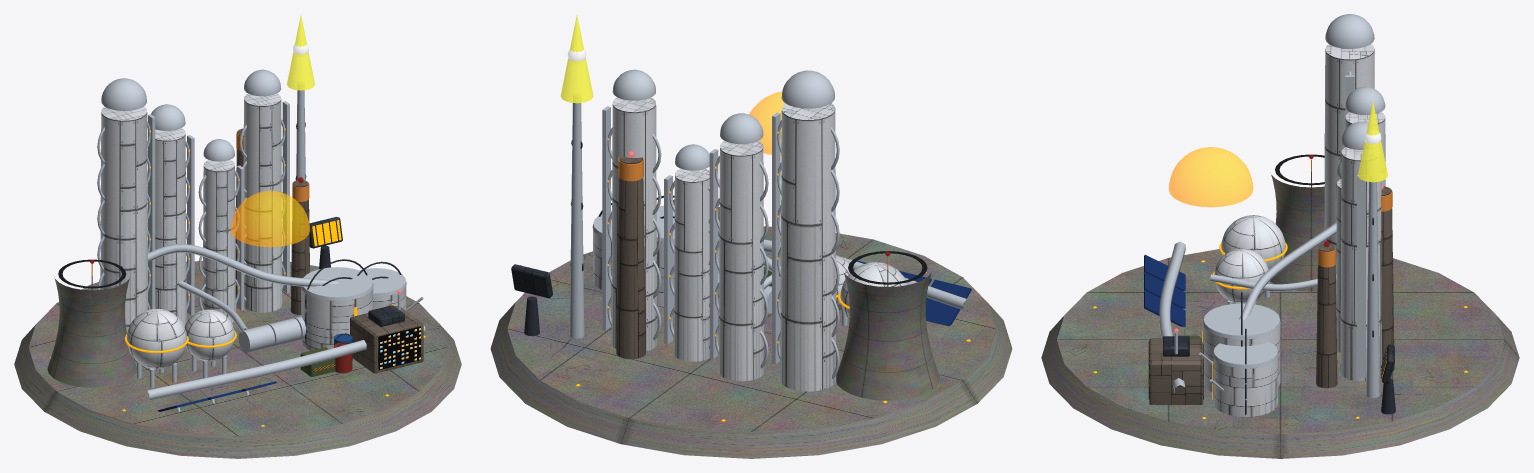
The model's file is refinery-T5.glb.
The picture shows the model from 3 angles, left to right: view 1: azimuth 30°, elevation 25°; view 2: azimuth 150°, elevation 25°; view 3: azimuth 270°, elevation 25°; orthographic projection. The views are drawn at different scales.
Visible parts, largest first — view 1: object 1, object 12, object 51, object 112, object 27, object 40, object 118, object 73, object 89, object 105, anim:smoke, object 79 (+21 smaller); view 2: object 1, object 12, object 27, object 112, object 40, object 51, anim:smoke, object 64, object 26, object 63, object 39, object 13 (+13 smaller); view 3: object 1, object 51, anim:smoke (×2), object 12, object 118, object 112, object 96, object 106, object 64, object 73, object 90, object 79 (+16 smaller).
Boxes of the visible parts, x1,y1,x2,y2 form: object 1: (14, 261, 461, 458); object 12: (100, 106, 148, 332); object 51: (243, 93, 282, 312); object 112: (47, 278, 136, 387); object 27: (155, 128, 186, 326); object 40: (202, 160, 235, 322); object 118: (231, 191, 309, 247); object 73: (126, 308, 186, 369); object 89: (301, 287, 373, 350); object 105: (147, 325, 425, 400); anim:smoke: (290, 180, 309, 314); object 79: (184, 309, 234, 361); object 1: (490, 226, 1012, 458); object 12: (780, 103, 836, 391); object 27: (718, 141, 764, 381); object 112: (836, 273, 939, 400); object 40: (674, 168, 709, 361); object 51: (611, 97, 657, 351); anim:smoke: (616, 156, 645, 359); object 64: (569, 103, 584, 338); object 26: (772, 112, 780, 363); object 63: (602, 106, 610, 330); object 39: (709, 149, 718, 359); object 13: (781, 70, 834, 108); object 1: (1041, 249, 1519, 458); object 51: (1340, 147, 1381, 381); anim:smoke (×2): (1316, 186, 1394, 388); object 12: (1324, 44, 1374, 294); object 118: (1168, 147, 1253, 207); object 112: (1270, 174, 1324, 291); object 96: (1213, 356, 1278, 416); object 106: (1149, 338, 1203, 404); object 64: (1366, 182, 1379, 397); object 73: (1221, 215, 1285, 269); object 90: (1203, 303, 1280, 339); object 79: (1214, 248, 1268, 303).
Bounding box in the file's own units: 6.2 × 4.56 × 6.2.
Materials: 23 (7 with a texture image).
